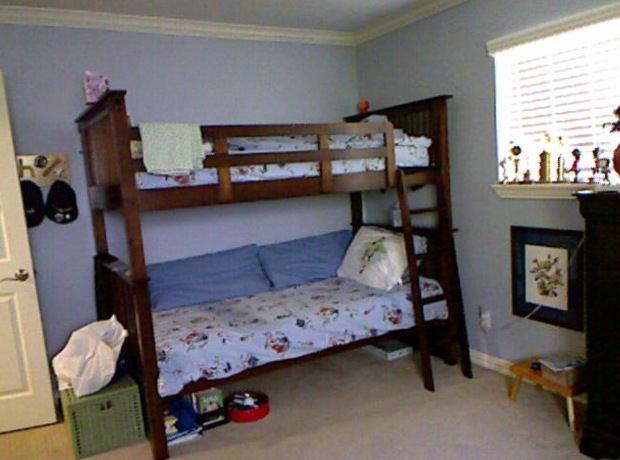door: (0, 77, 30, 428)
table: (510, 357, 582, 428)
window: (499, 52, 620, 184)
